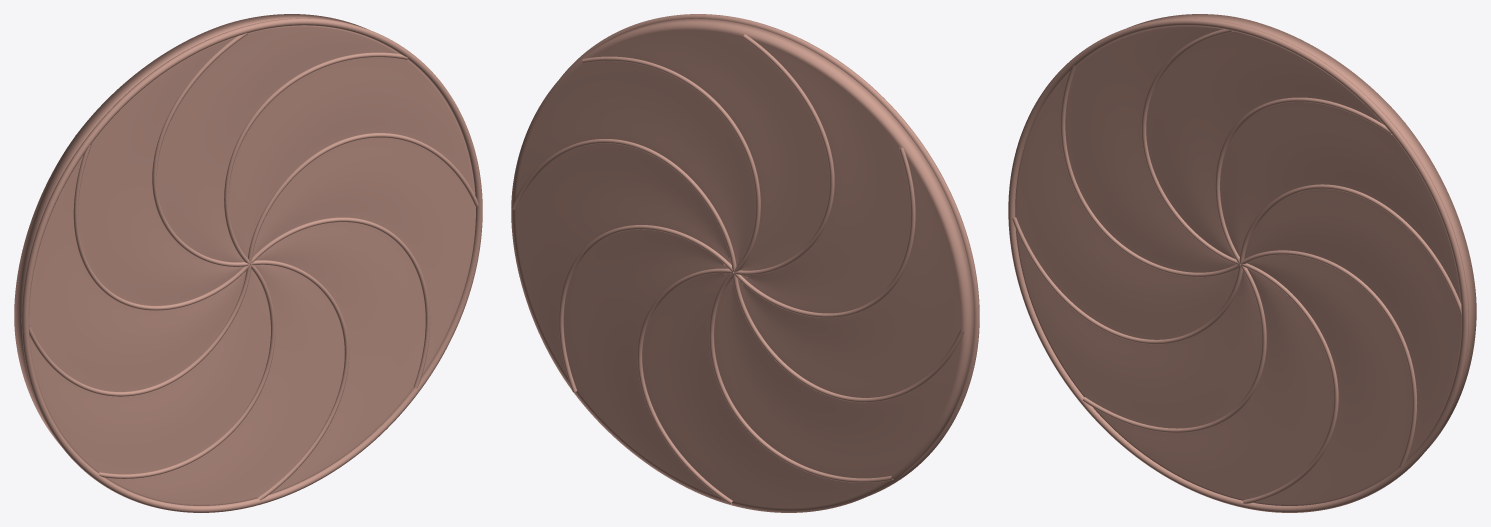
Rendered from spiral-copper.glb.
3 views of the same model, side by side, from view 1: azimuth 30°, elevation 25°; view 2: azimuth 150°, elevation 25°; view 3: azimuth 330°, elevation 25° (orthographic).
Visible parts, largest first — view 1: Shallow cast plate.002, Fine rolled lip.003, Eightfold curved seam 01, Eightfold curved seam 06, Eightfold curved seam 07, Eightfold curved seam 05, Eightfold curved seam 00, Eightfold curved seam 02, Eightfold curved seam 04, Eightfold curved seam 03; view 2: Shallow cast plate.002, Fine rolled lip.003, Reverse eightfold seam 05, Reverse eightfold seam 01, Reverse eightfold seam 02, Reverse eightfold seam 06, Reverse eightfold seam 04, Reverse eightfold seam 03, Reverse eightfold seam 00, Reverse eightfold seam 07; view 3: Shallow cast plate.002, Fine rolled lip.003, Eightfold curved seam 07, Eightfold curved seam 03, Eightfold curved seam 04, Eightfold curved seam 06, Eightfold curved seam 05, Eightfold curved seam 00, Eightfold curved seam 02, Eightfold curved seam 01.
Boxes of the visible parts, x1,y1,x2,y2 form: Shallow cast plate.002: (14,14,475,505); Fine rolled lip.003: (21,18,482,512); Eightfold curved seam 01: (224,52,407,263); Eightfold curved seam 06: (251,260,349,500); Eightfold curved seam 07: (251,217,430,388); Eightfold curved seam 05: (99,264,275,478); Eightfold curved seam 00: (248,133,478,263); Eightfold curved seam 02: (152,33,249,266); Eightfold curved seam 04: (28,264,251,396); Eightfold curved seam 03: (73,144,249,310); Shallow cast plate.002: (511,18,974,512); Fine rolled lip.003: (560,14,979,495); Reverse eightfold seam 05: (709,273,893,482); Reverse eightfold seam 01: (582,56,760,272); Reverse eightfold seam 02: (734,34,834,275); Reverse eightfold seam 06: (637,268,732,504); Reverse eightfold seam 04: (733,272,964,402); Reverse eightfold seam 03: (734,147,915,317); Reverse eightfold seam 00: (511,139,736,271); Reverse eightfold seam 07: (559,225,733,392); Shallow cast plate.002: (1015,14,1476,505); Fine rolled lip.003: (1008,18,1468,512); Eightfold curved seam 07: (1241,250,1417,468); Eightfold curved seam 03: (1060,65,1239,277); Eightfold curved seam 04: (1012,217,1242,344); Eightfold curved seam 06: (1241,263,1338,503); Eightfold curved seam 05: (1083,265,1266,432); Eightfold curved seam 00: (1239,184,1461,315); Eightfold curved seam 02: (1141,29,1239,264); Eightfold curved seam 01: (1215,97,1392,263).
Size of the model in its own units: 2.03 by 2.03 by 0.1319.
